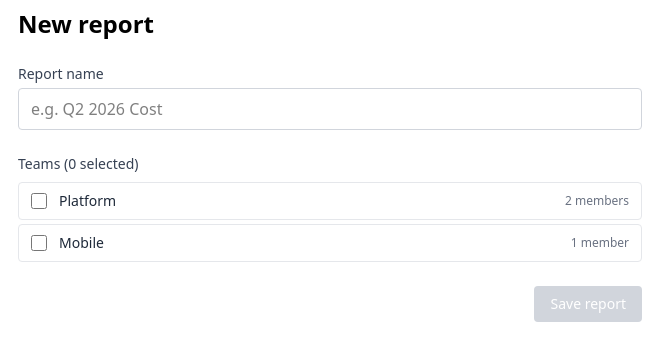
keeps save disabled until name and team selection are valid
Expected: the button "Save report" is disabled, x1=534 y1=286 x2=642 y2=322
Type "Q2 Cost" into the field labelled "Report name" at [330, 109], box x1=18 y1=88 x2=642 y2=130
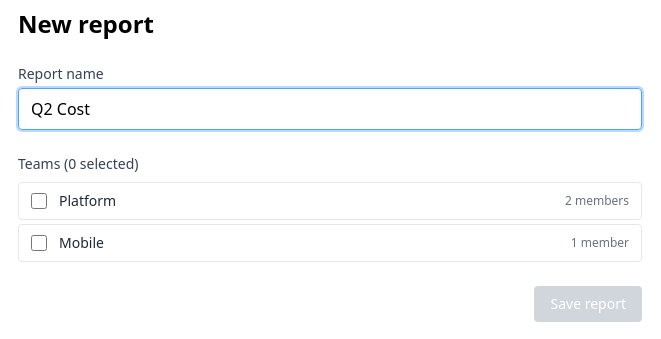
Expected: the button "Save report" is disabled, x1=534 y1=286 x2=642 y2=322
// A team's label also carries its member count, so the name is a substring.
Click the checkbox labelled "Platform 2 members" at [39, 201], box x1=31 y1=193 x2=47 y2=209
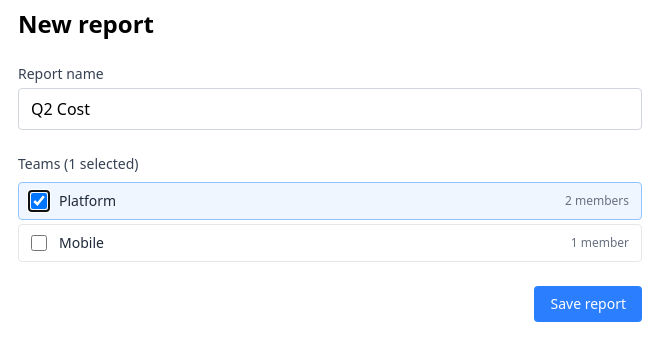
Expected: the button "Save report" is enabled, x1=534 y1=286 x2=642 y2=322
